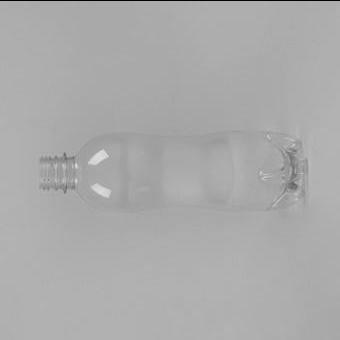bottle: (37, 134, 303, 212)
